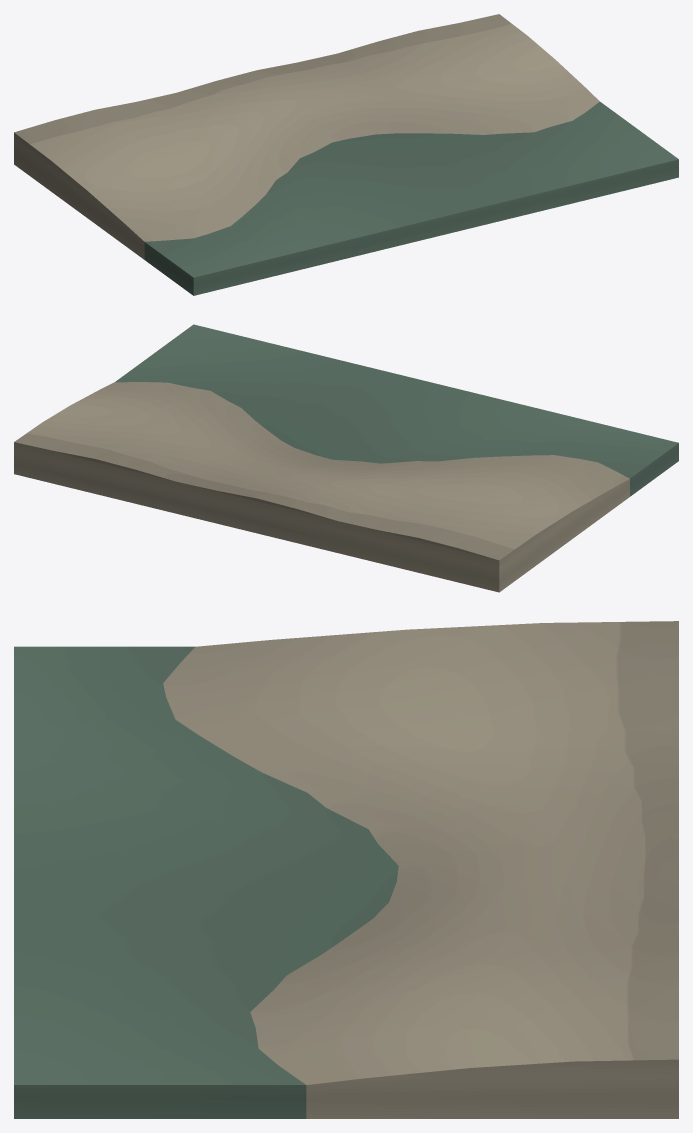
3 views of the same model, one above another, from view 1: azimuth 30°, elevation 25°; view 2: azimuth 150°, elevation 25°; view 3: azimuth 270°, elevation 25° (orthographic). The views are drawn at different scales.
Parts seen in each view (by area): view 1: colombo; view 2: colombo; view 3: colombo.
Boxes of the visible parts, x1=… form: colombo: x1=14, y1=14, x2=678, y2=295; colombo: x1=14, y1=324, x2=678, y2=592; colombo: x1=14, y1=621, x2=678, y2=1118.
Size of the model in its own units: 7.8 by 0.538 by 5.
1 material, 1 textured.
